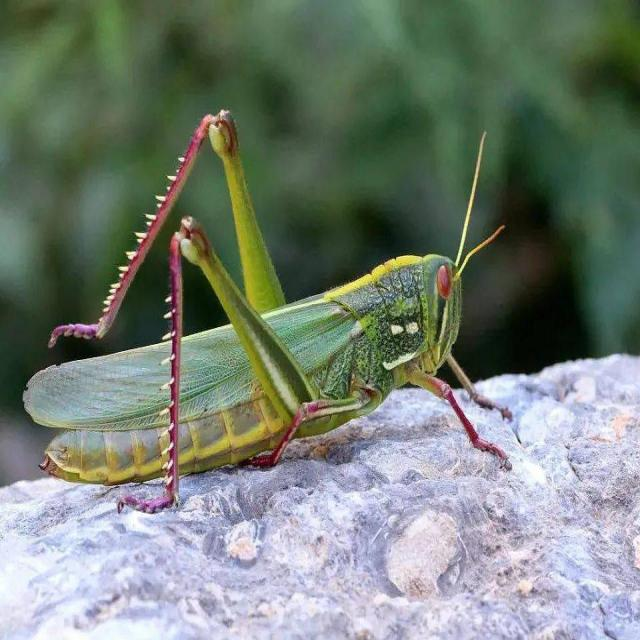ZhaMeng: (14, 100, 529, 497)
